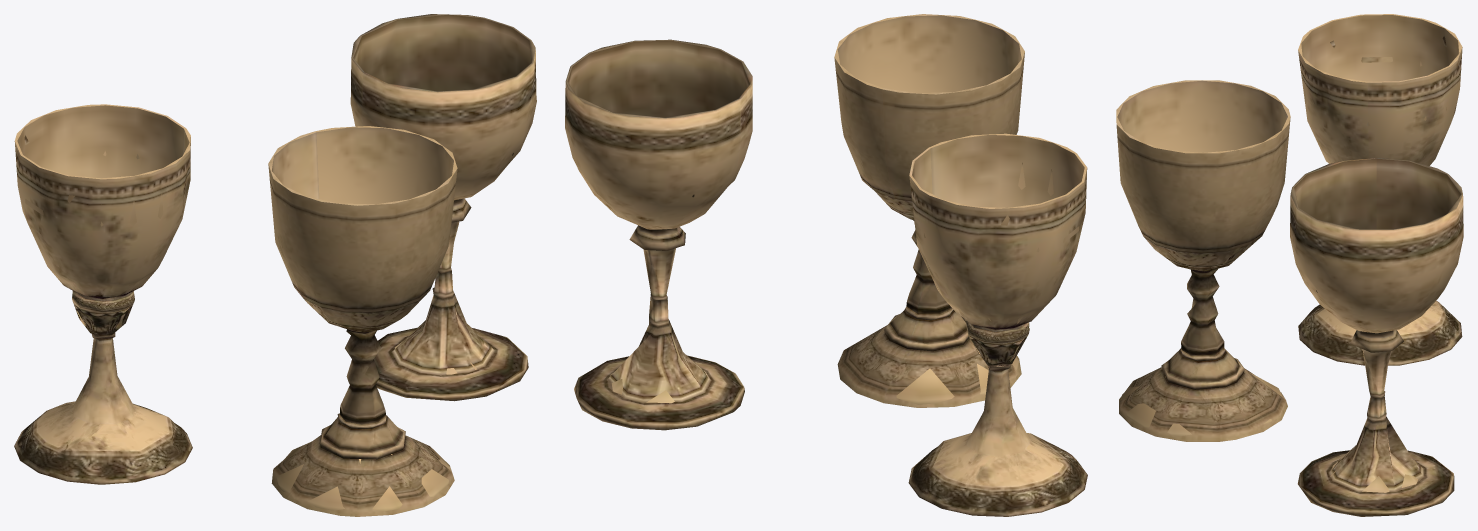
The model's file is brass_goblets.glb.
3 renders of one model, left to right at view 1: azimuth 30°, elevation 25°; view 2: azimuth 150°, elevation 25°; view 3: azimuth 270°, elevation 25°, orthographic. The views are drawn at different scales.
Parts seen in each view (by area): view 1: brass_goblet_01, brass_goblet_02, brass_goblet_03; view 2: brass_goblet_02, brass_goblet_03, brass_goblet_01; view 3: brass_goblet_01, brass_goblet_03, brass_goblet_02.
Part boxes in pixels (x1,y1,x2,y2): brass_goblet_01: [268, 126, 457, 516]; brass_goblet_02: [14, 104, 192, 484]; brass_goblet_03: [350, 14, 536, 401]; brass_goblet_02: [908, 133, 1087, 516]; brass_goblet_03: [565, 39, 752, 430]; brass_goblet_01: [834, 14, 1024, 407]; brass_goblet_01: [1116, 80, 1290, 441]; brass_goblet_03: [1290, 158, 1463, 516]; brass_goblet_02: [1298, 14, 1462, 365].
Bounding box in the file's own units: 0.4519 × 0.2734 × 0.2955.
3 materials, 3 textured.
